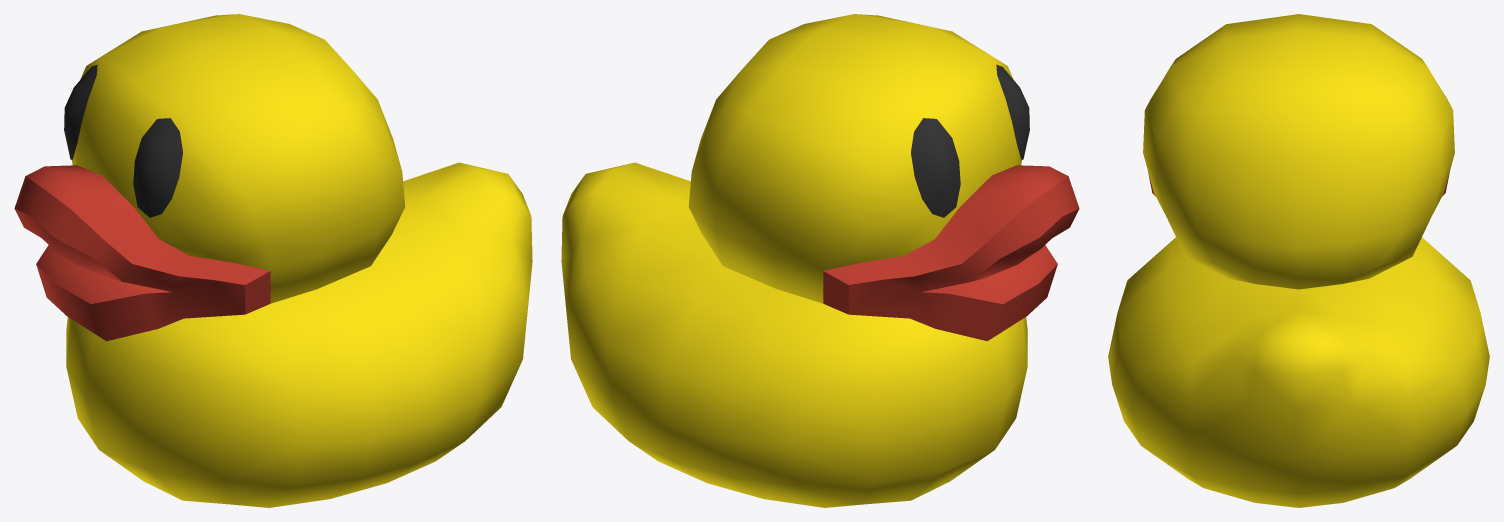
Rendered from duck01_s01.FBX.
The picture shows the model from 3 angles, left to right: view 1: azimuth 30°, elevation 25°; view 2: azimuth 150°, elevation 25°; view 3: azimuth 270°, elevation 25°; orthographic projection. The views are drawn at different scales.
Visible parts, largest first — view 1: duck01_s01; view 2: duck01_s01; view 3: duck01_s01.
Part boxes in pixels (left/top/right/bottom): duck01_s01: left=14, top=14, right=532, bottom=507; duck01_s01: left=561, top=14, right=1079, bottom=507; duck01_s01: left=1108, top=14, right=1489, bottom=507.
Size of the model in its own units: 107 by 79.17 by 90.4.
1 material, 1 textured.
